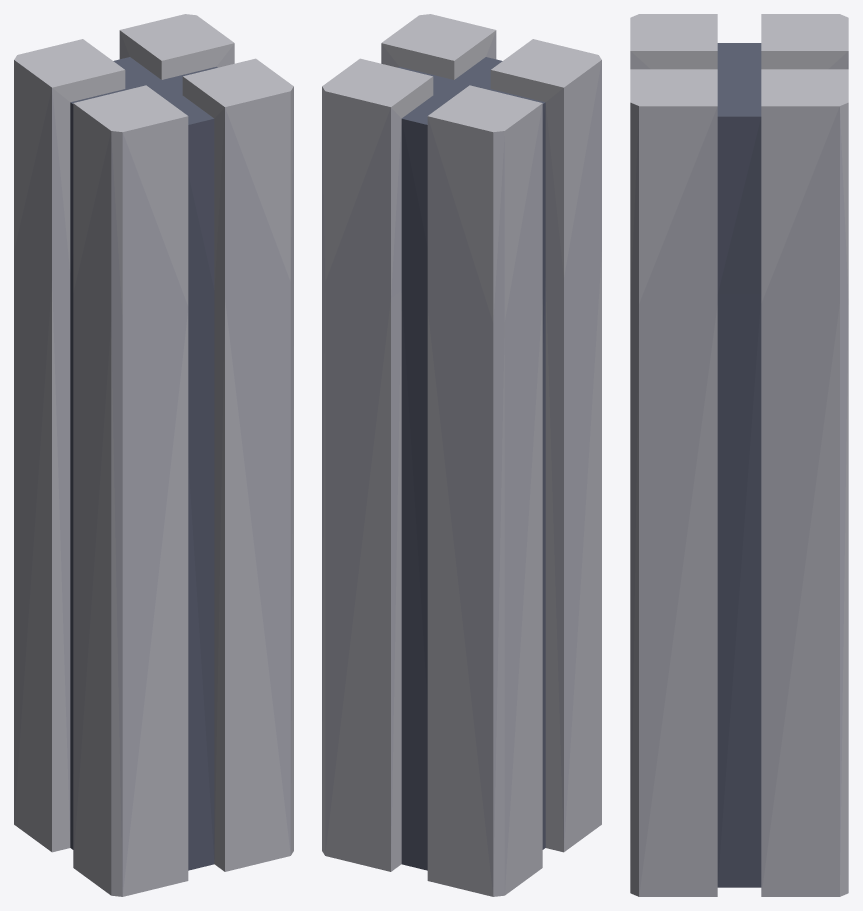
The model's file is block_g.glb.
3 views of the same model, side by side, from view 1: azimuth 30°, elevation 25°; view 2: azimuth 150°, elevation 25°; view 3: azimuth 270°, elevation 25° (orthographic). The views are drawn at different scales.
Visible parts, largest first — view 1: block_g; view 2: block_g; view 3: block_g.
Part boxes in pixels (x1,y1,x2,y2): block_g: (14,14,293,896); block_g: (322,14,601,896); block_g: (630,14,848,896).
Bounding box in the file's own units: 0.5 × 2 × 0.5.
